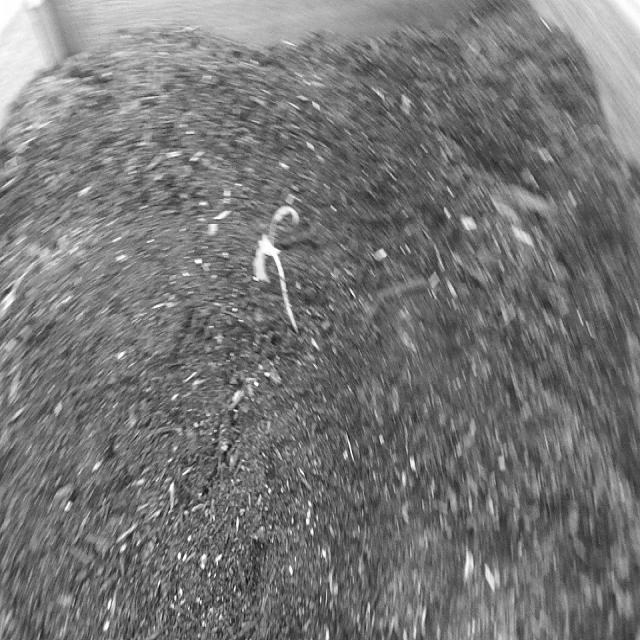Healthy: (253, 201, 309, 342)
